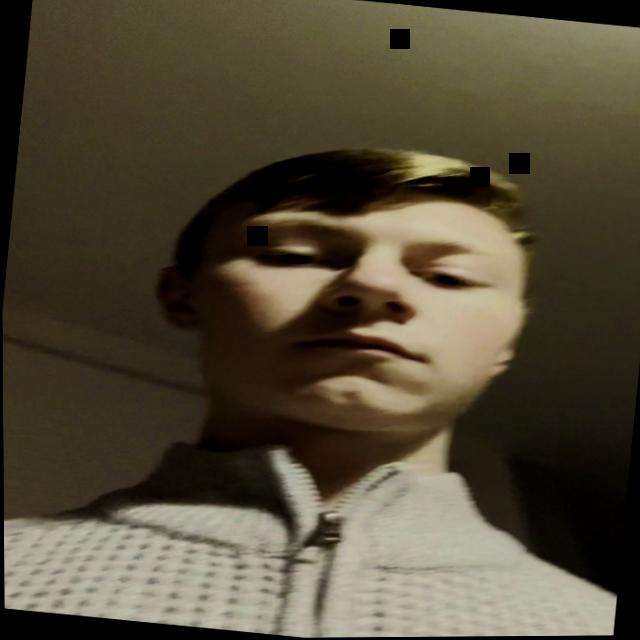NO-Mask: (143, 114, 547, 491)
